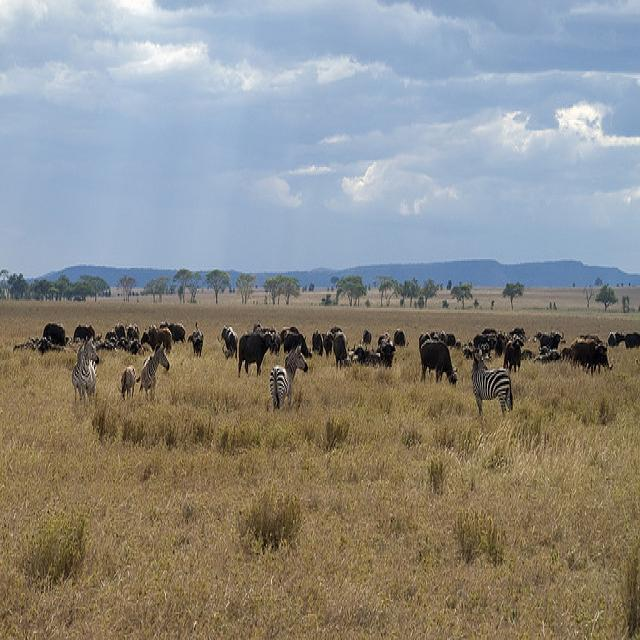cow: (23, 308, 565, 416), (418, 339, 457, 384), (237, 329, 273, 376), (571, 336, 607, 374), (139, 324, 170, 350), (217, 324, 237, 357), (186, 325, 203, 355), (165, 320, 184, 343), (123, 320, 139, 339), (605, 329, 625, 344), (624, 330, 639, 348), (311, 330, 321, 353), (509, 325, 524, 332), (462, 346, 471, 357)
